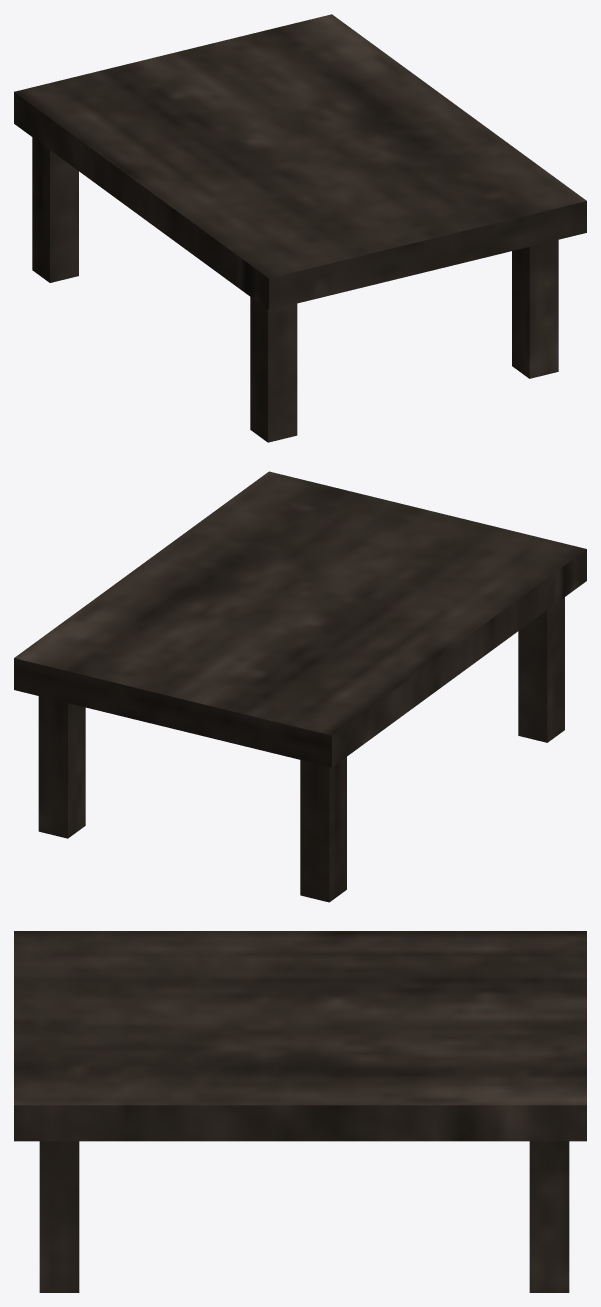
The model's file is SM_EC_Table_3.fbx.
3 renders of one model, top to bottom at view 1: azimuth 30°, elevation 25°; view 2: azimuth 150°, elevation 25°; view 3: azimuth 270°, elevation 25°, orthographic. The views are drawn at different scales.
Visible parts, largest first — view 1: SM_EC_Table_3; view 2: SM_EC_Table_3; view 3: SM_EC_Table_3.
Part boxes in pixels (left/top/right/bottom): SM_EC_Table_3: left=14, top=14, right=586, bottom=442; SM_EC_Table_3: left=14, top=471, right=586, bottom=902; SM_EC_Table_3: left=14, top=931, right=586, bottom=1292.
Size of the model in its own units: 0.939 by 1.3 by 0.4943.
